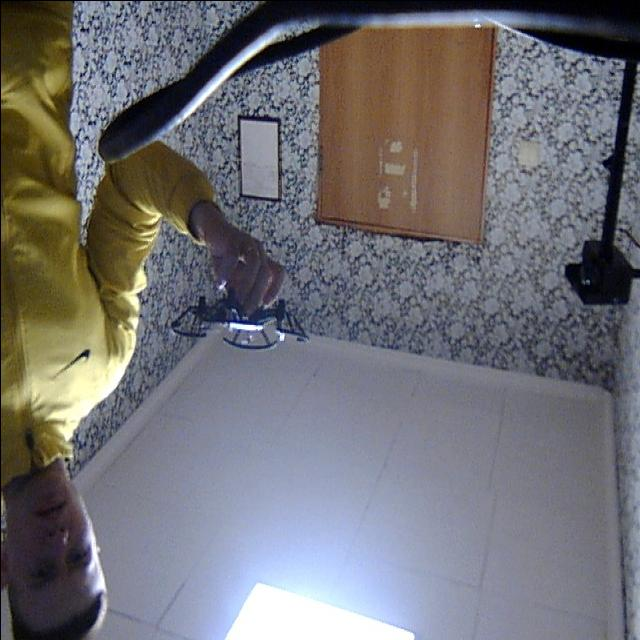drone: (162, 280, 308, 360)
